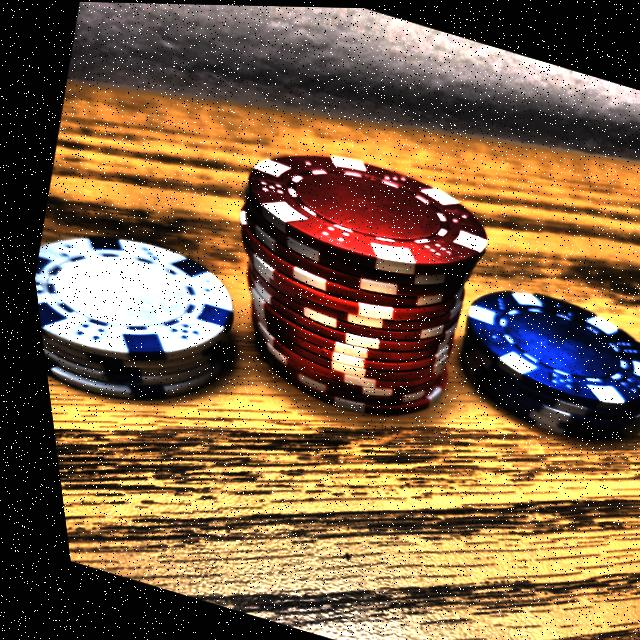Chip: (164, 107, 530, 447), (400, 245, 640, 482), (20, 206, 255, 435)
